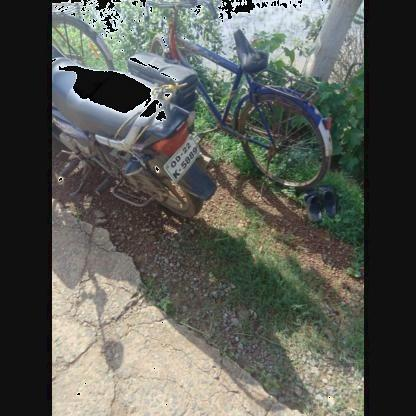Bicycle: (126, 0, 336, 202)
